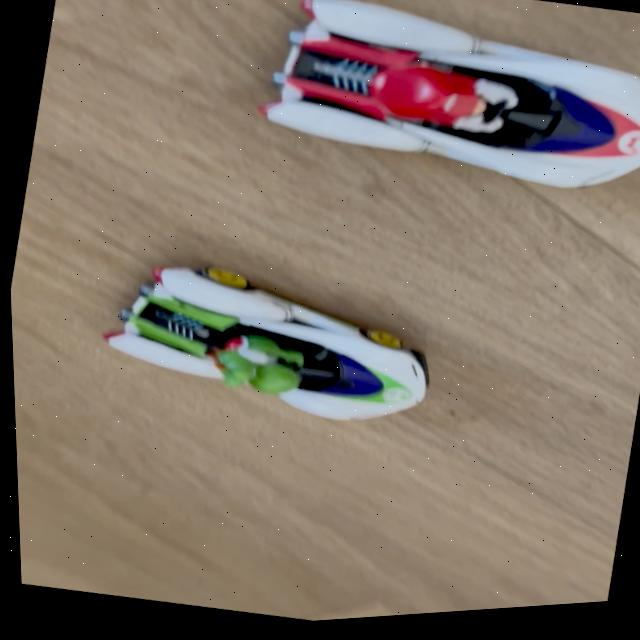mario: (238, 0, 640, 242)
yoshi: (61, 228, 481, 476)
